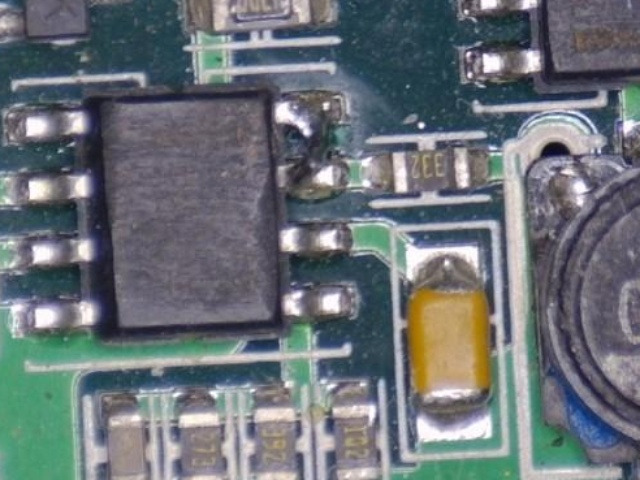pcb_defect: (274, 91, 349, 199)
